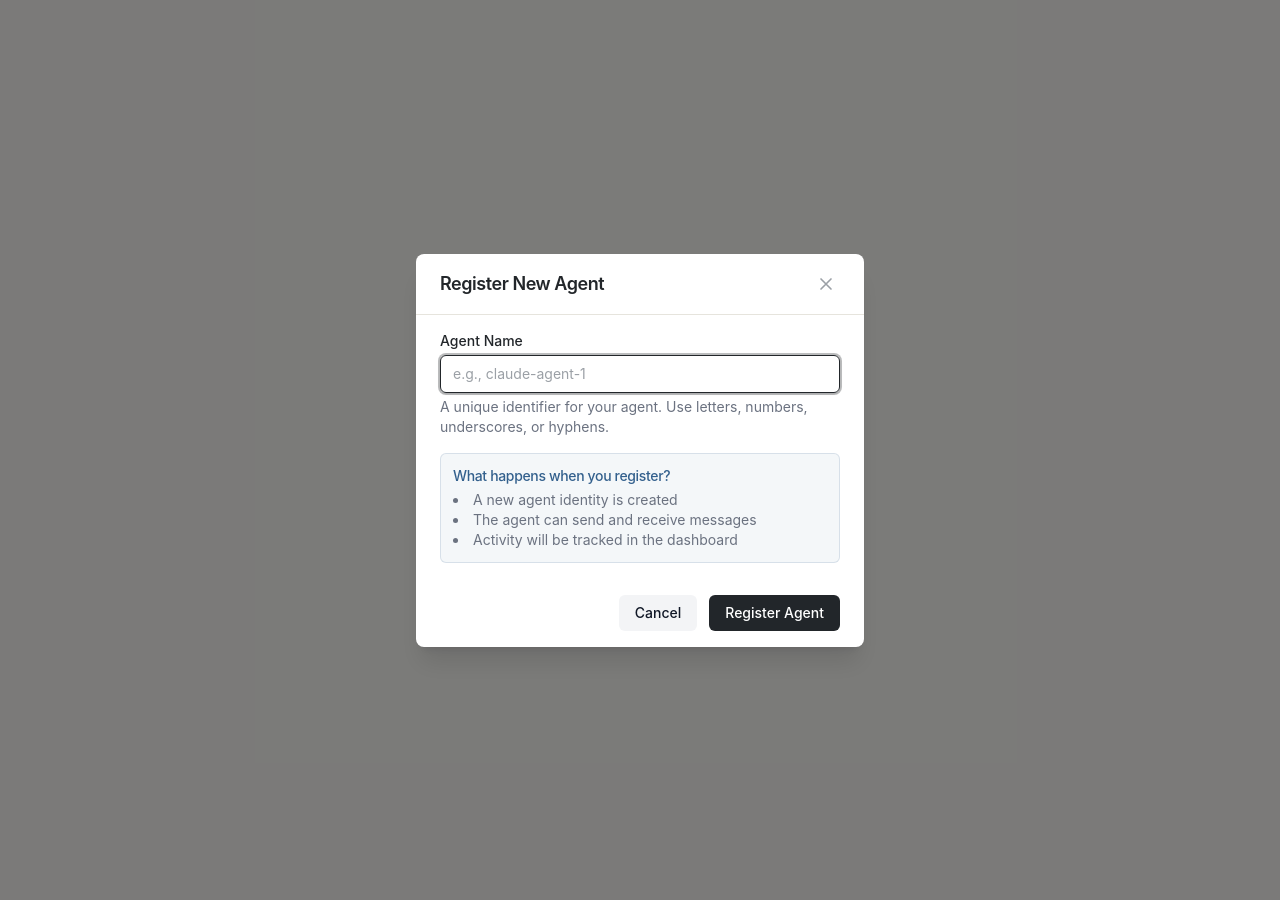
Test: NewAgentModal › validates name format
# Name starting with number is invalid.
Step 1. Type "123agent" into the field labelled "Agent Name" → (640, 374), box [440,354,840,392]
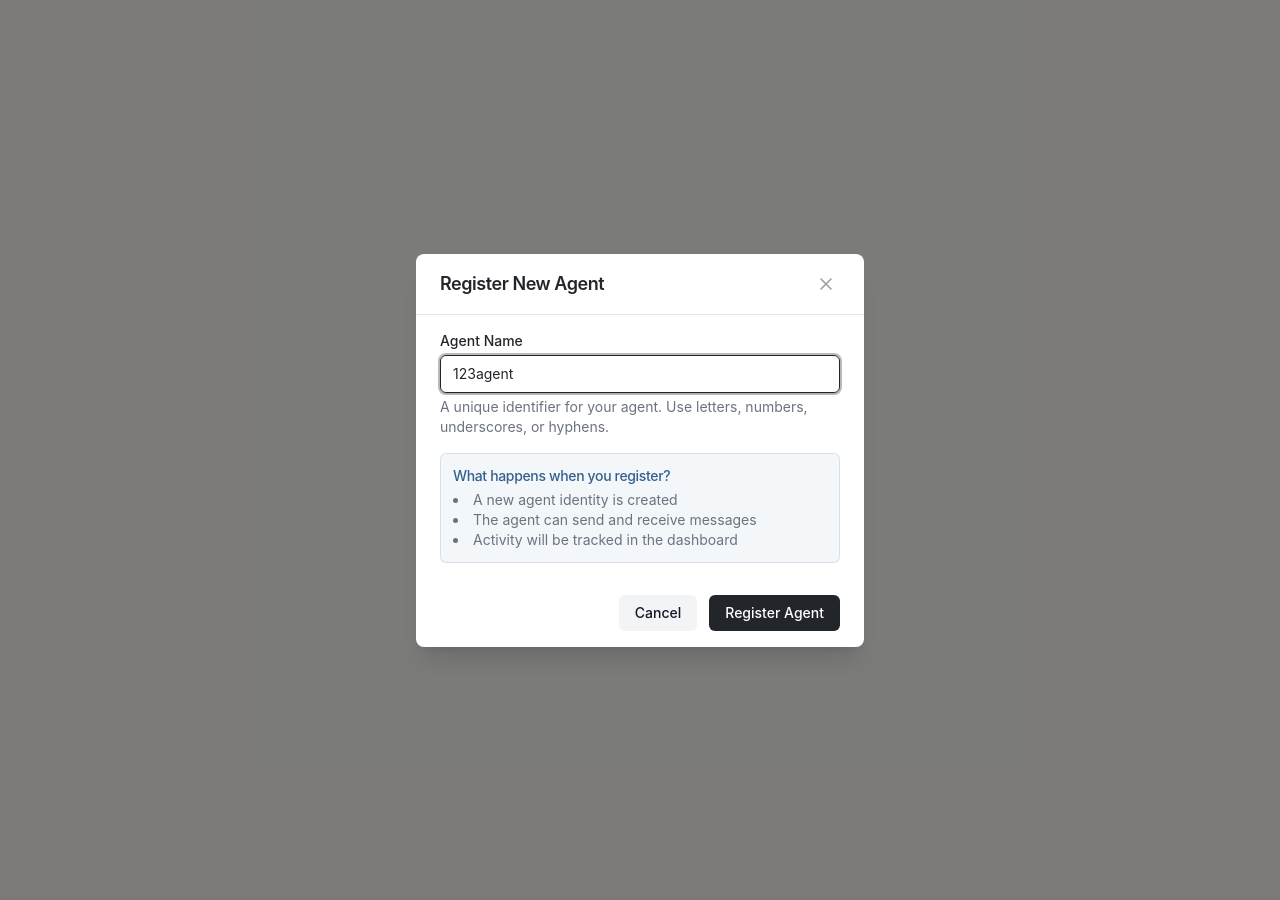
Step 2. Click the button "Register Agent" → (775, 612), box [709,594,840,630]
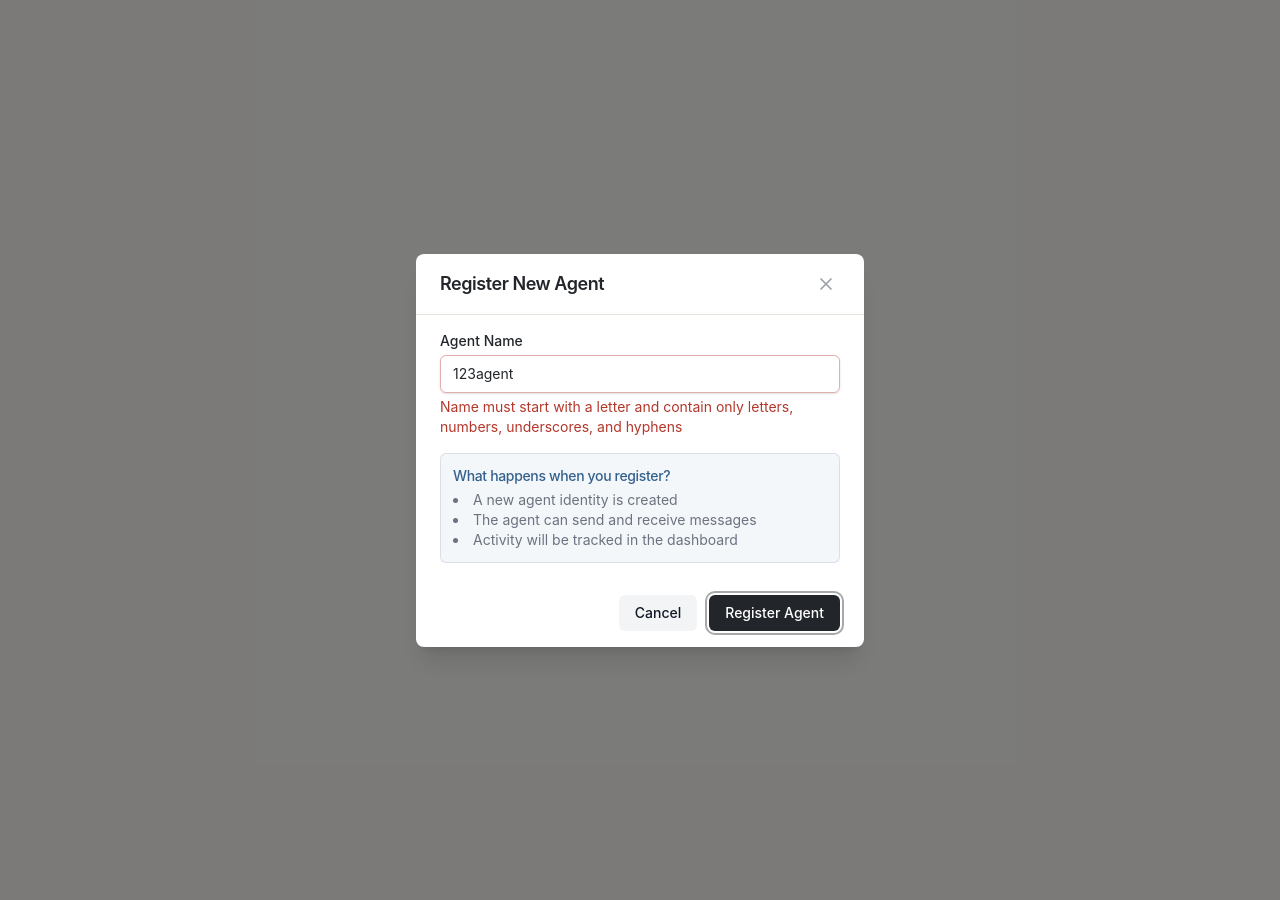
Expected: the text "Name must start with a letter" is shown, [440,398,793,434]
